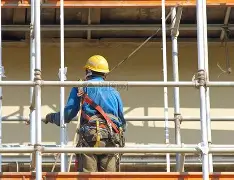safety belt: (71, 80, 129, 143)
